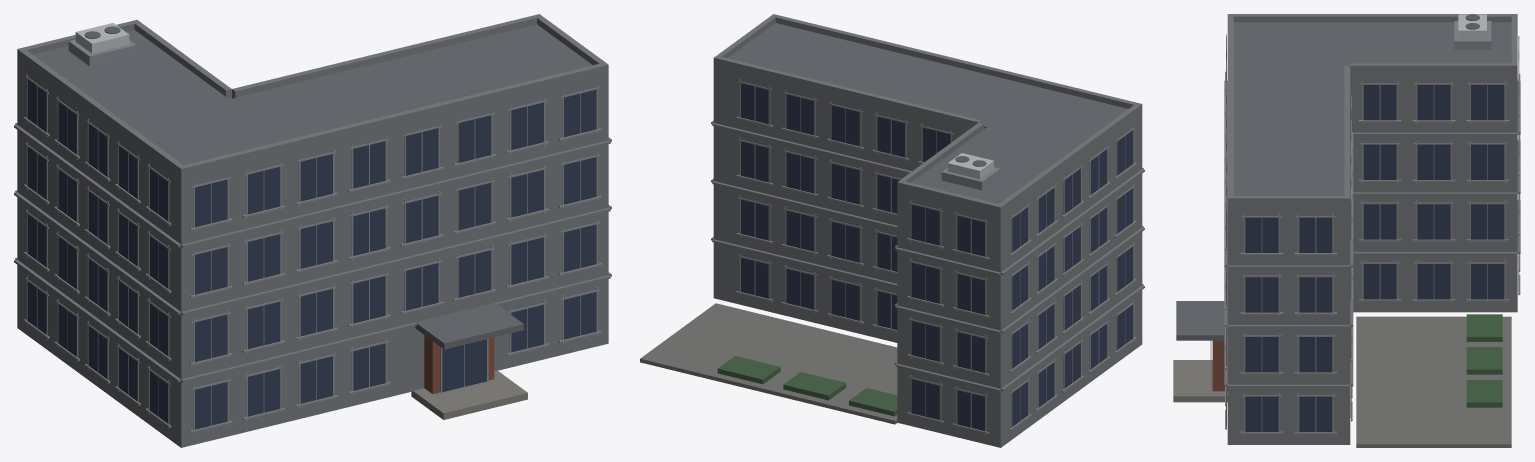
File: civic_corner_08x03_lvl1.glb
The picture shows the model from 3 angles, left to right: view 1: azimuth 30°, elevation 25°; view 2: azimuth 150°, elevation 25°; view 3: azimuth 270°, elevation 25°; orthographic projection. The views are drawn at different scales.
Visible parts, largest first — view 1: civic_corner_08x03; view 2: civic_corner_08x03; view 3: civic_corner_08x03.
Part boxes in pixels (box(x1,y1,x2,y2)): civic_corner_08x03: box(14, 14, 611, 447); civic_corner_08x03: box(640, 14, 1144, 447); civic_corner_08x03: box(1173, 14, 1520, 447).
Size of the model in its own units: 1 by 0.6735 by 0.7849.
